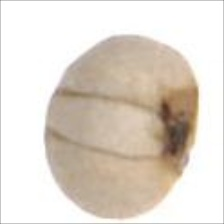L5: (46, 87, 170, 163), (158, 82, 201, 178), (42, 83, 70, 143)
L6: (42, 34, 203, 222)
